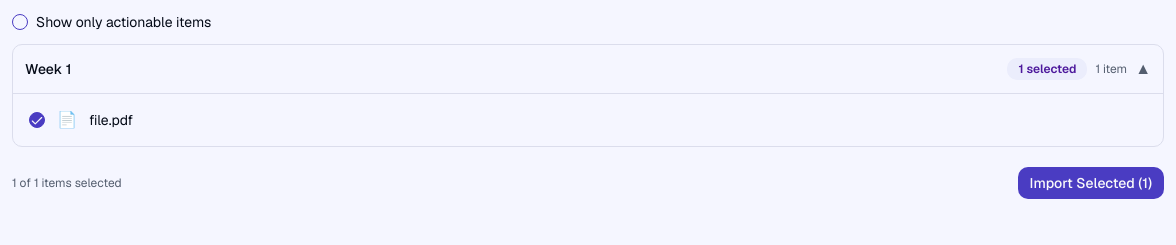
Scenario: MoodleFilePicker › shows course linking note in done phase
This screenshot has width=1176, height=245.
Expected: the text "file.pdf" is shown, [89,111,133,129]
What coordinates should you click on to do the following:
click the button "Import Selected (1)"
I would click on:
 (1091, 183)
Its box is [1018,167,1164,199].
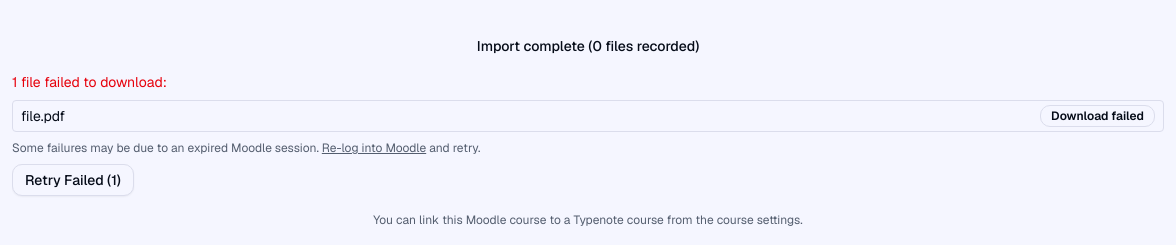
Result: the text "Import complete (0 files recorded)" is shown at [477,36,699,56]
Result: the text "link this Moodle course to a Typenote course" is shown at [373,212,803,228]
